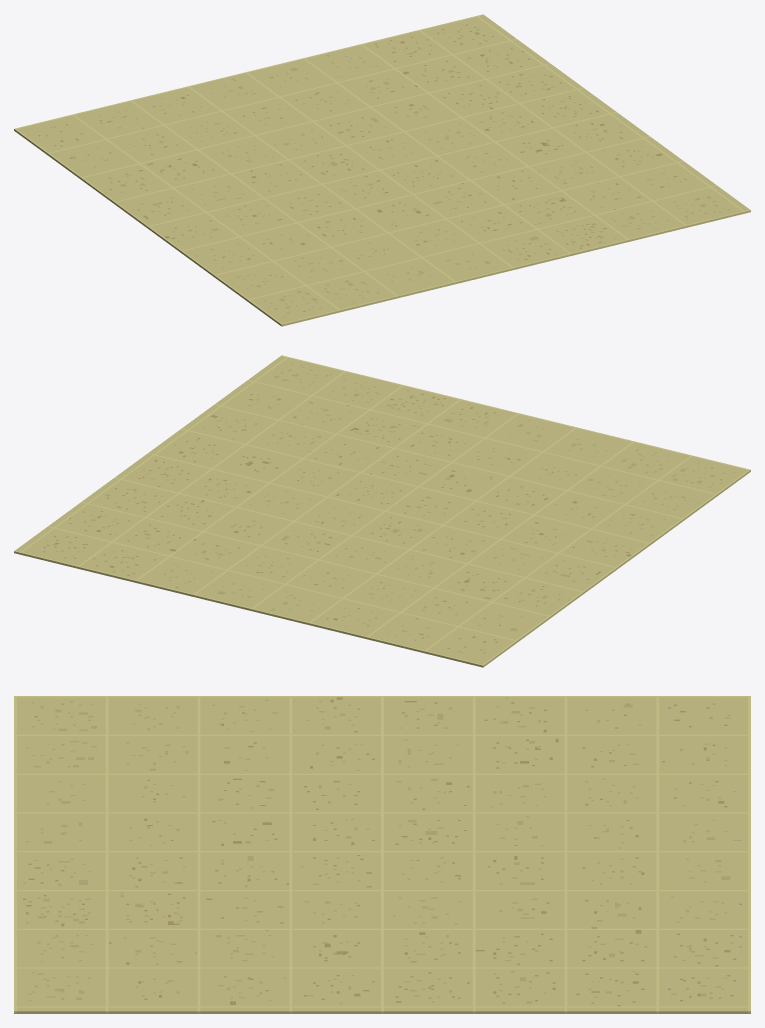
Rendered from Roof.obj.
3 renders of one model, top to bottom at view 1: azimuth 30°, elevation 25°; view 2: azimuth 150°, elevation 25°; view 3: azimuth 270°, elevation 25°, orthographic. The views are drawn at different scales.
Bounding box in the file's own units: 25.2 × 0.1 × 24.9.
1 material, 1 textured.
